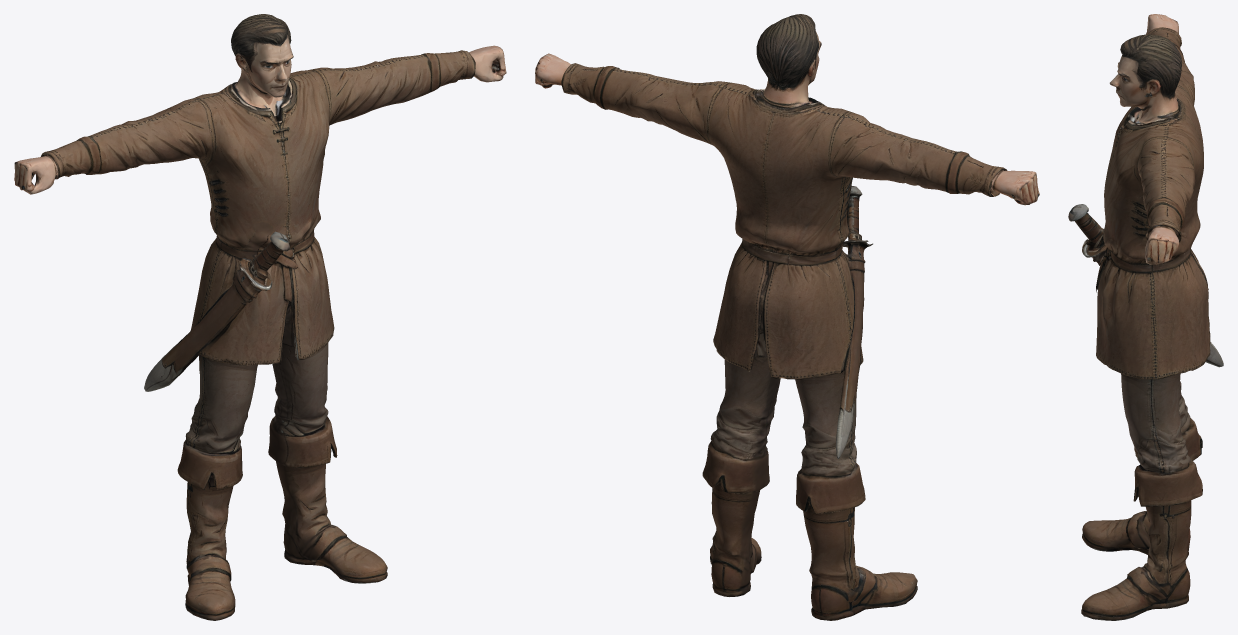
Rendered from PlayerRaw_NoRig.glb.
3 views of the same model, side by side, from view 1: azimuth 30°, elevation 25°; view 2: azimuth 150°, elevation 25°; view 3: azimuth 270°, elevation 25° (orthographic). The views are drawn at different scales.
Visible parts, largest first — view 1: texture_mapping; view 2: texture_mapping; view 3: texture_mapping.
Boxes of the visible parts, x1,y1,x2,y2 form: texture_mapping: (14,14,506,620); texture_mapping: (535,14,1039,620); texture_mapping: (1068,14,1223,620).
Size of the model in its own units: 0.9075 by 1 by 0.2609.
1 material, 1 textured.
